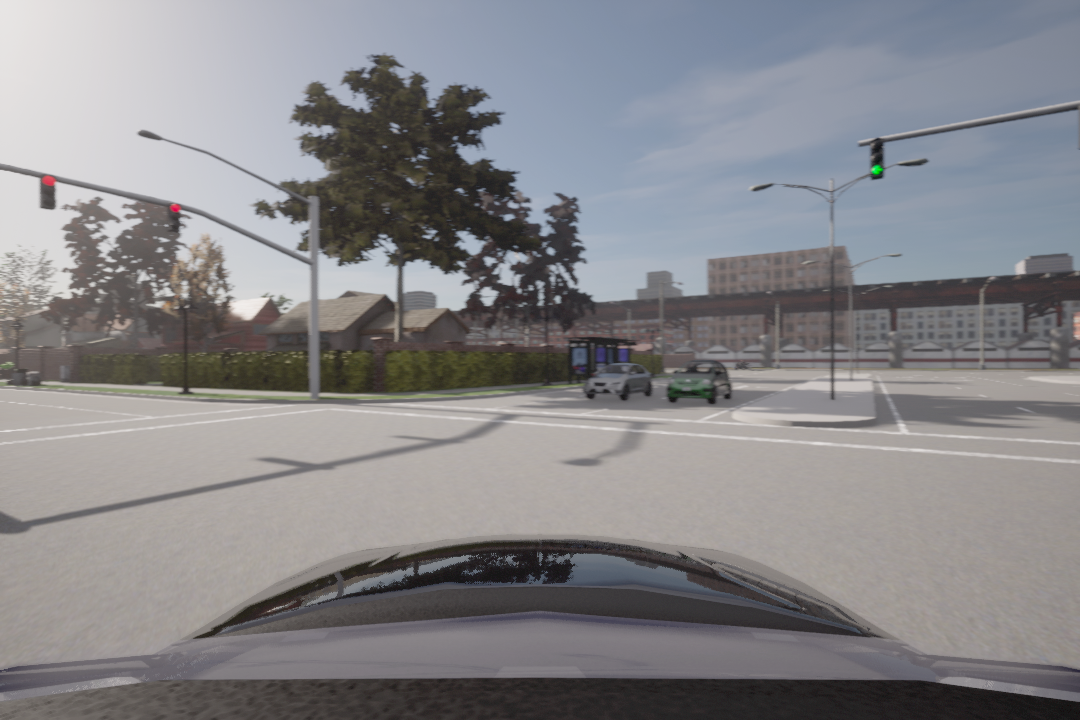TrafficLight: (38, 173, 60, 210), (868, 137, 885, 181), (164, 201, 183, 234)
